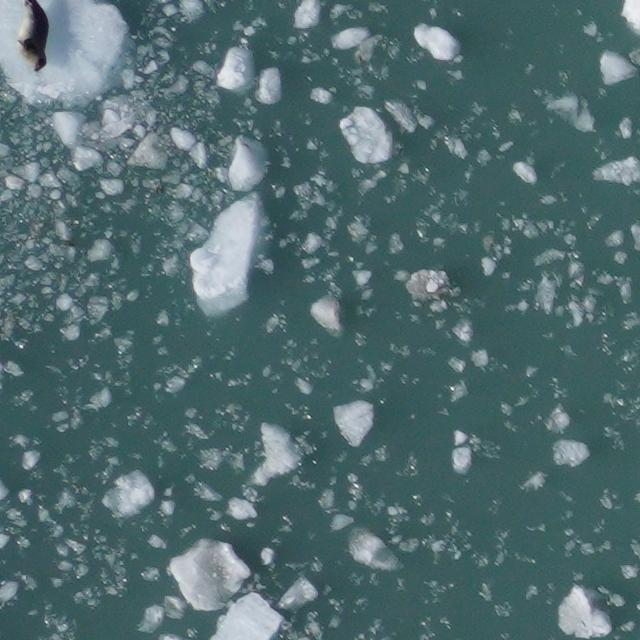seal: (11, 0, 54, 76)
